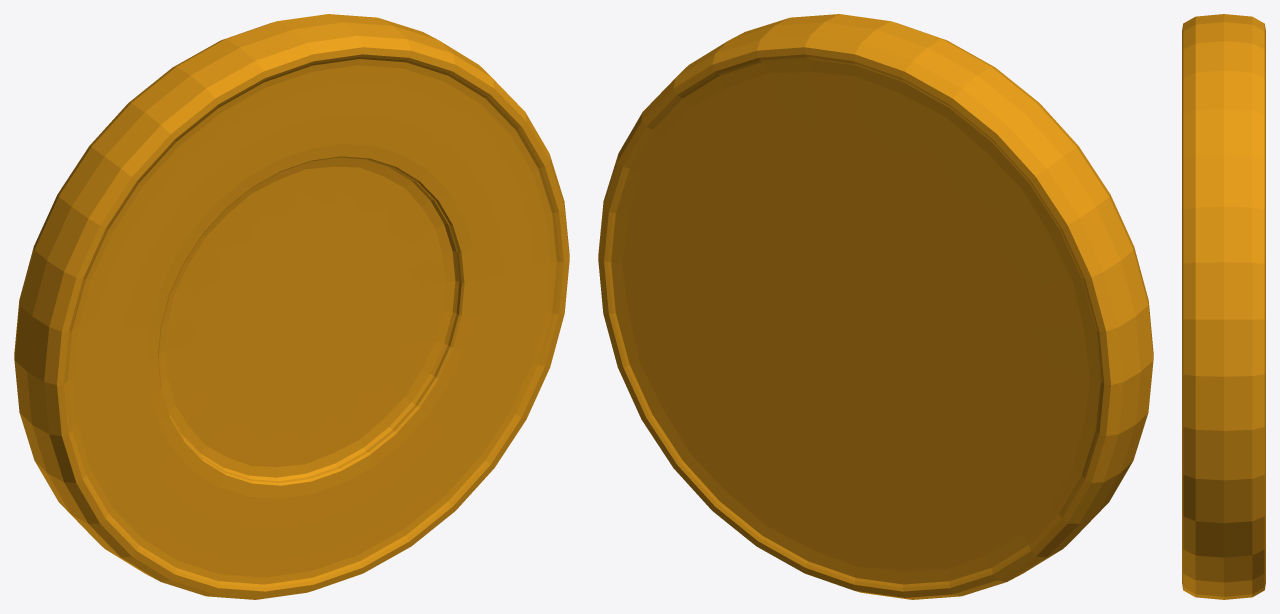
Rendered from SM_Coin_S.fbx.
3 renders of one model, left to right at view 1: azimuth 30°, elevation 25°; view 2: azimuth 150°, elevation 25°; view 3: azimuth 270°, elevation 25°, orthographic. The views are drawn at different scales.
Visible parts, largest first — view 1: Coin_S; view 2: Coin_S; view 3: Coin_S.
Boxes of the visible parts, x1,y1,x2,y2 form: Coin_S: [14, 14, 569, 599]; Coin_S: [598, 14, 1153, 599]; Coin_S: [1182, 14, 1265, 599].
Size of the model in its own units: 35 by 35 by 5.
